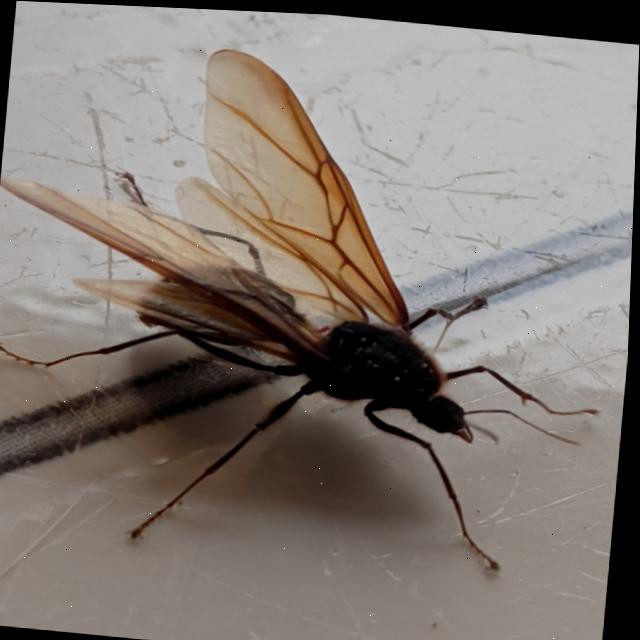Alive-Male-Alate: (0, 27, 630, 579)
